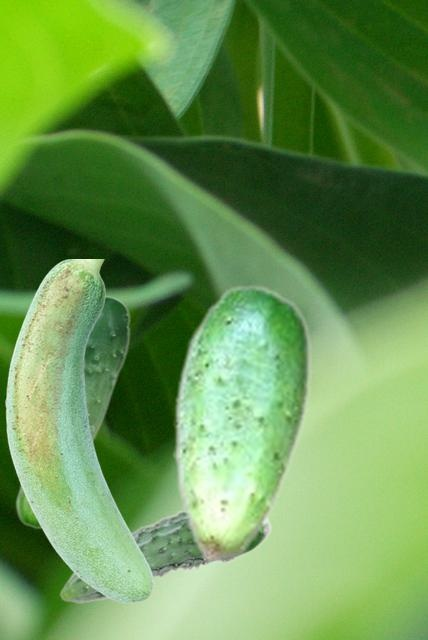cucumber: (5, 259, 153, 602), (173, 283, 310, 562), (15, 295, 130, 528), (59, 509, 271, 602)
